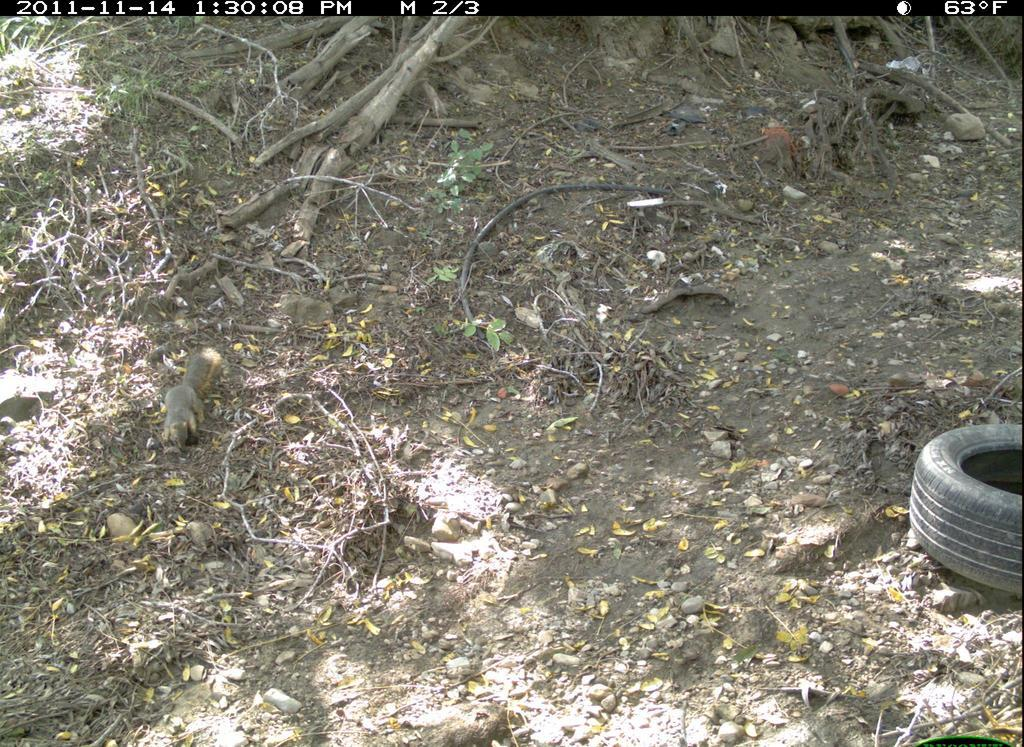squirrel: (150, 345, 236, 461)
